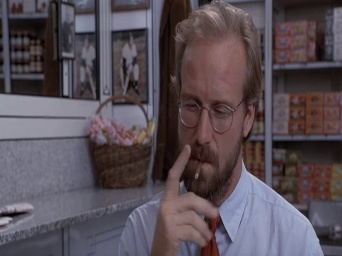smoke: (195, 155, 205, 180)
